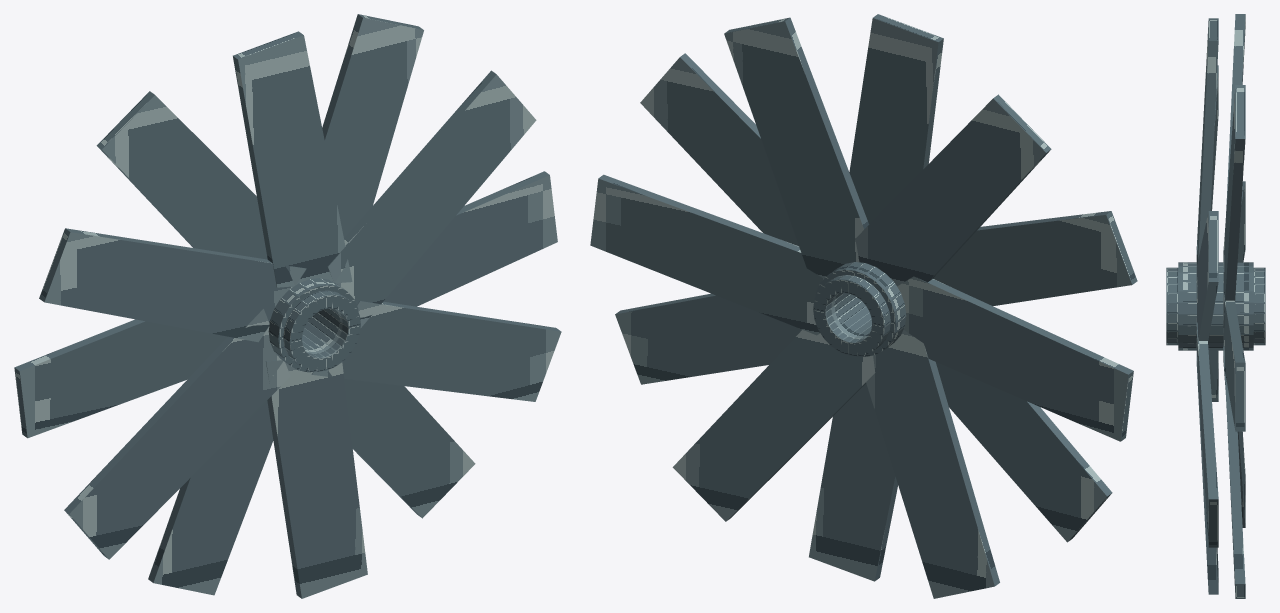
Rendered from rotor_blades_d5.obj.
3 views of the same model, side by side, from view 1: azimuth 30°, elevation 25°; view 2: azimuth 150°, elevation 25°; view 3: azimuth 270°, elevation 25° (orthographic). The views are drawn at different scales.
Parts seen in each view (by area): view 1: rotor_blades_d5; view 2: rotor_blades_d5; view 3: rotor_blades_d5.
Part boxes in pixels (x1=…): rotor_blades_d5: x1=14, y1=14, x2=561, y2=598; rotor_blades_d5: x1=590, y1=14, x2=1137, y2=598; rotor_blades_d5: x1=1166, y1=14, x2=1265, y2=598.
Bounding box in the file's own units: 4.37 × 4.37 × 0.74.
